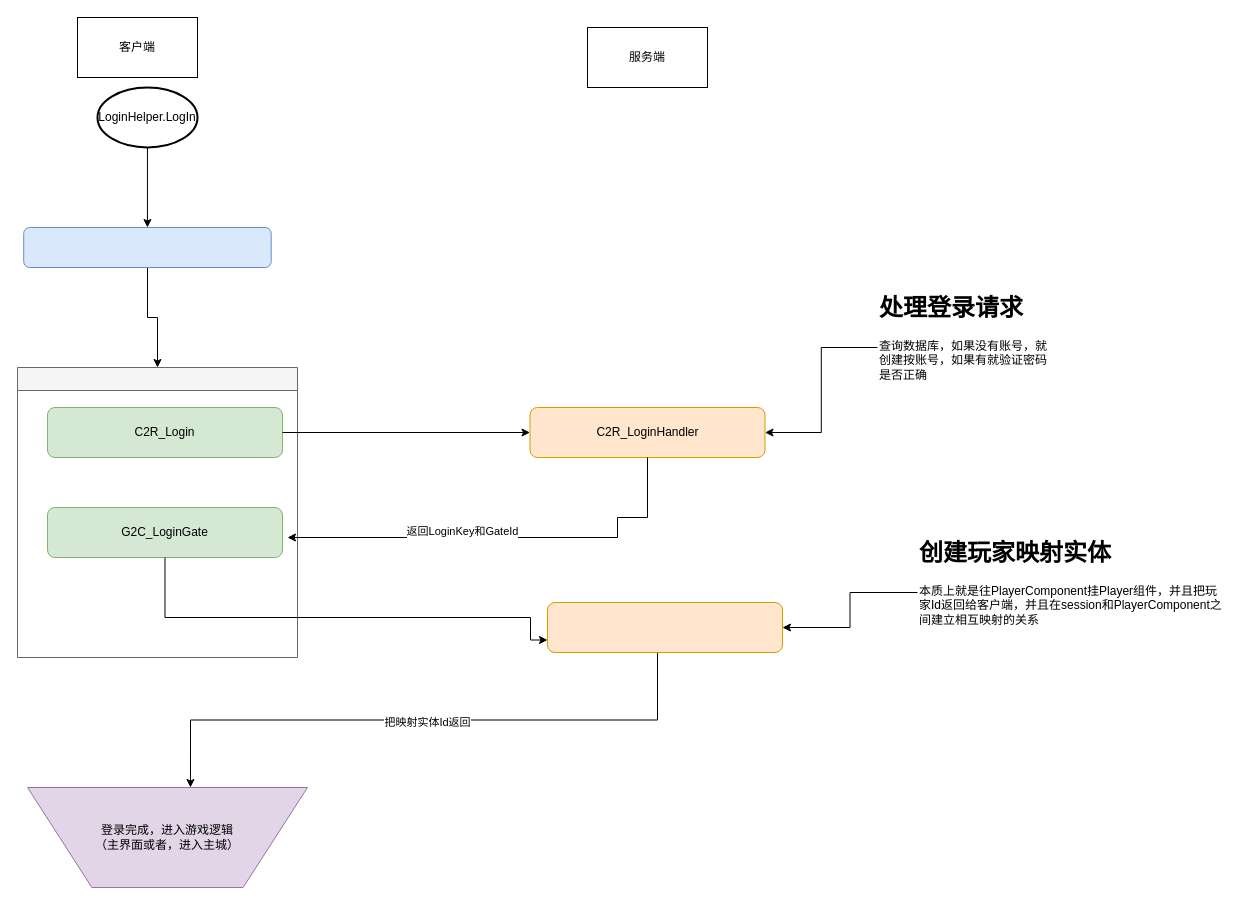
Some shapes in this 1245 by 905 pixel diagram are drawn without their labels. The box of each missing label's shape, as (x1, y1, x2, y2) in pixels:
C2G_LoginGateHandler: (546, 602, 782, 652)
ClientSenderComponent.LoginAsync 创建Main2NetClient_Login向Main Biber发送: (23, 226, 271, 268)
Main2NetClient_LoginHandler: (16, 366, 298, 658)
